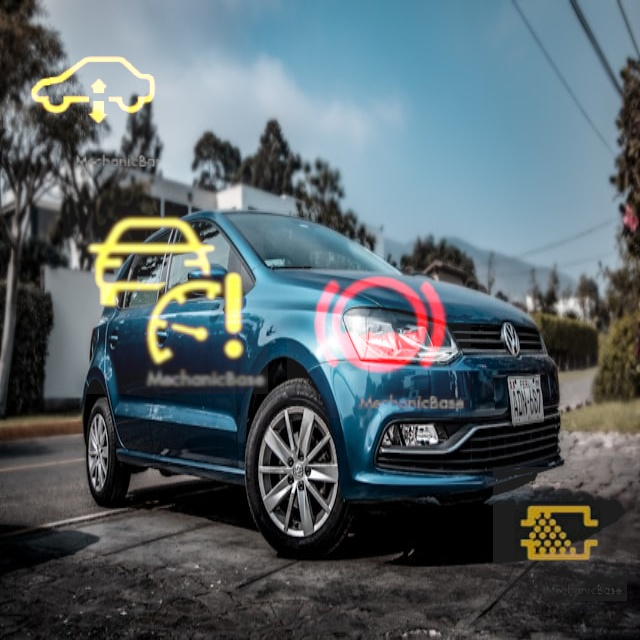symbol: (63, 189, 268, 394), (287, 234, 471, 418), (10, 9, 176, 175), (493, 467, 627, 601)
